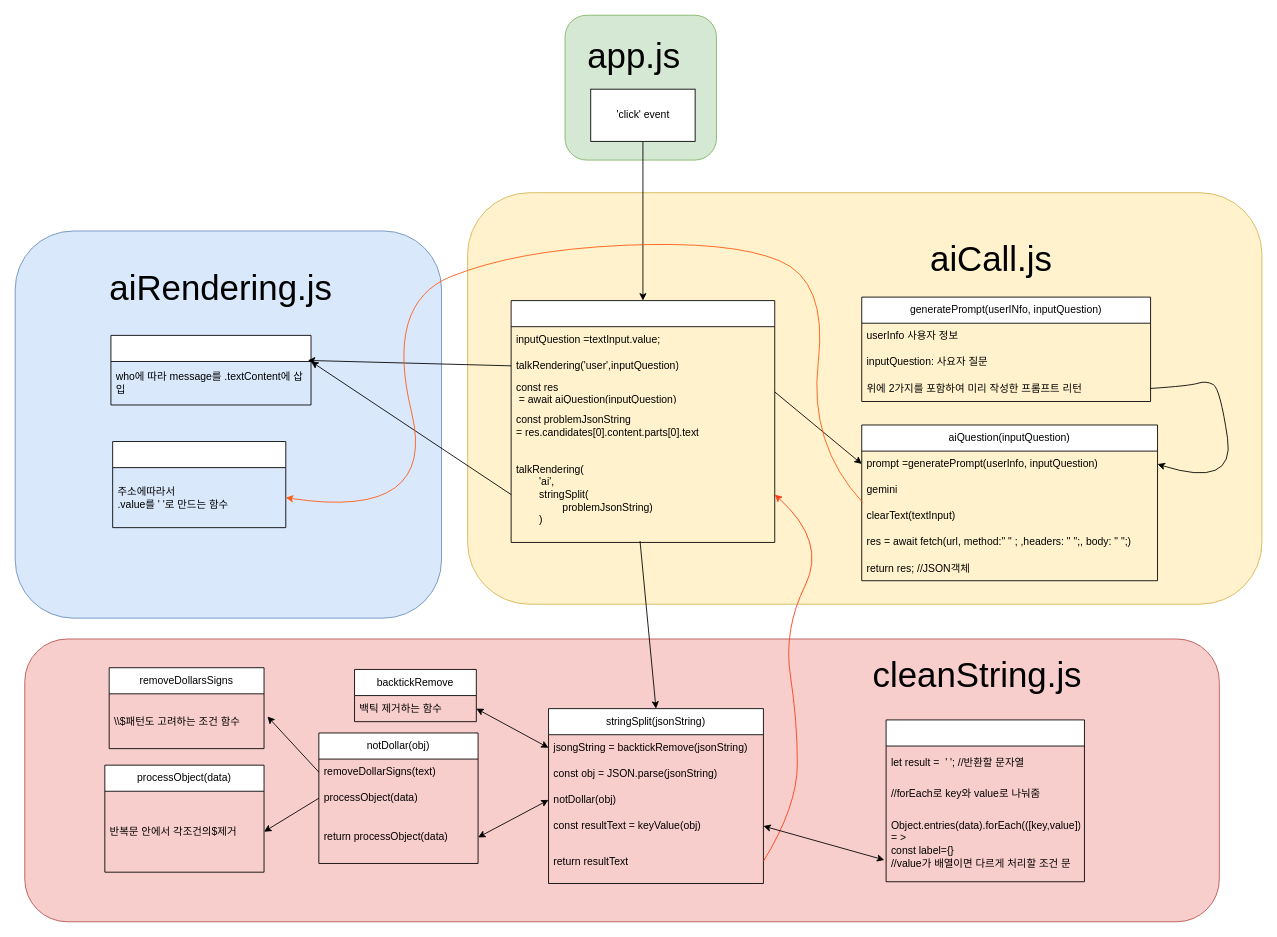
This 1277x937 diagram has some shape labels left out. The shapes that lost their labels are listed below. From the top down, each one's box as (x1, y1, x2, y2) in pixels, then its label:
(110, 335, 311, 405): talkRendering( who, message)
(510, 300, 775, 542): aiGet => aiCall
(112, 441, 286, 528): clearText(adress)
(885, 719, 1084, 882): keyValue(data
